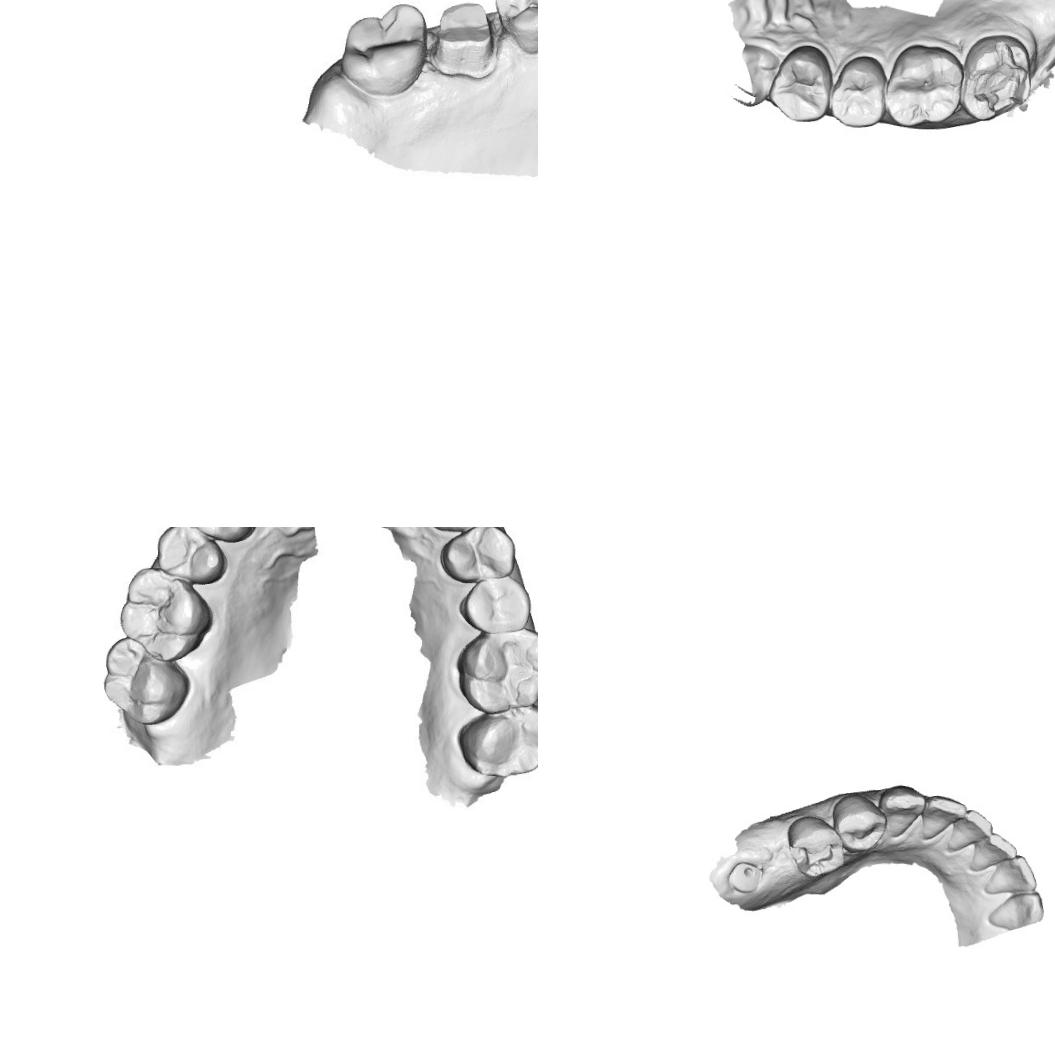canine: (876, 783, 926, 839), (986, 890, 1045, 930)
crown: (429, 0, 497, 79)
implant: (725, 859, 765, 895)
incisor: (983, 852, 1038, 897), (920, 794, 968, 842), (946, 808, 994, 854), (968, 832, 1017, 873)
inlay: (965, 40, 1029, 117)
molar: (117, 566, 216, 664), (336, 0, 430, 98), (100, 635, 192, 727), (881, 40, 968, 130), (453, 625, 538, 717), (457, 702, 538, 780)
premolar: (764, 41, 834, 125), (829, 51, 888, 132), (457, 573, 534, 635), (153, 527, 230, 588), (438, 527, 518, 585), (784, 813, 848, 878), (831, 791, 888, 855), (495, 0, 538, 59), (180, 527, 260, 544)
